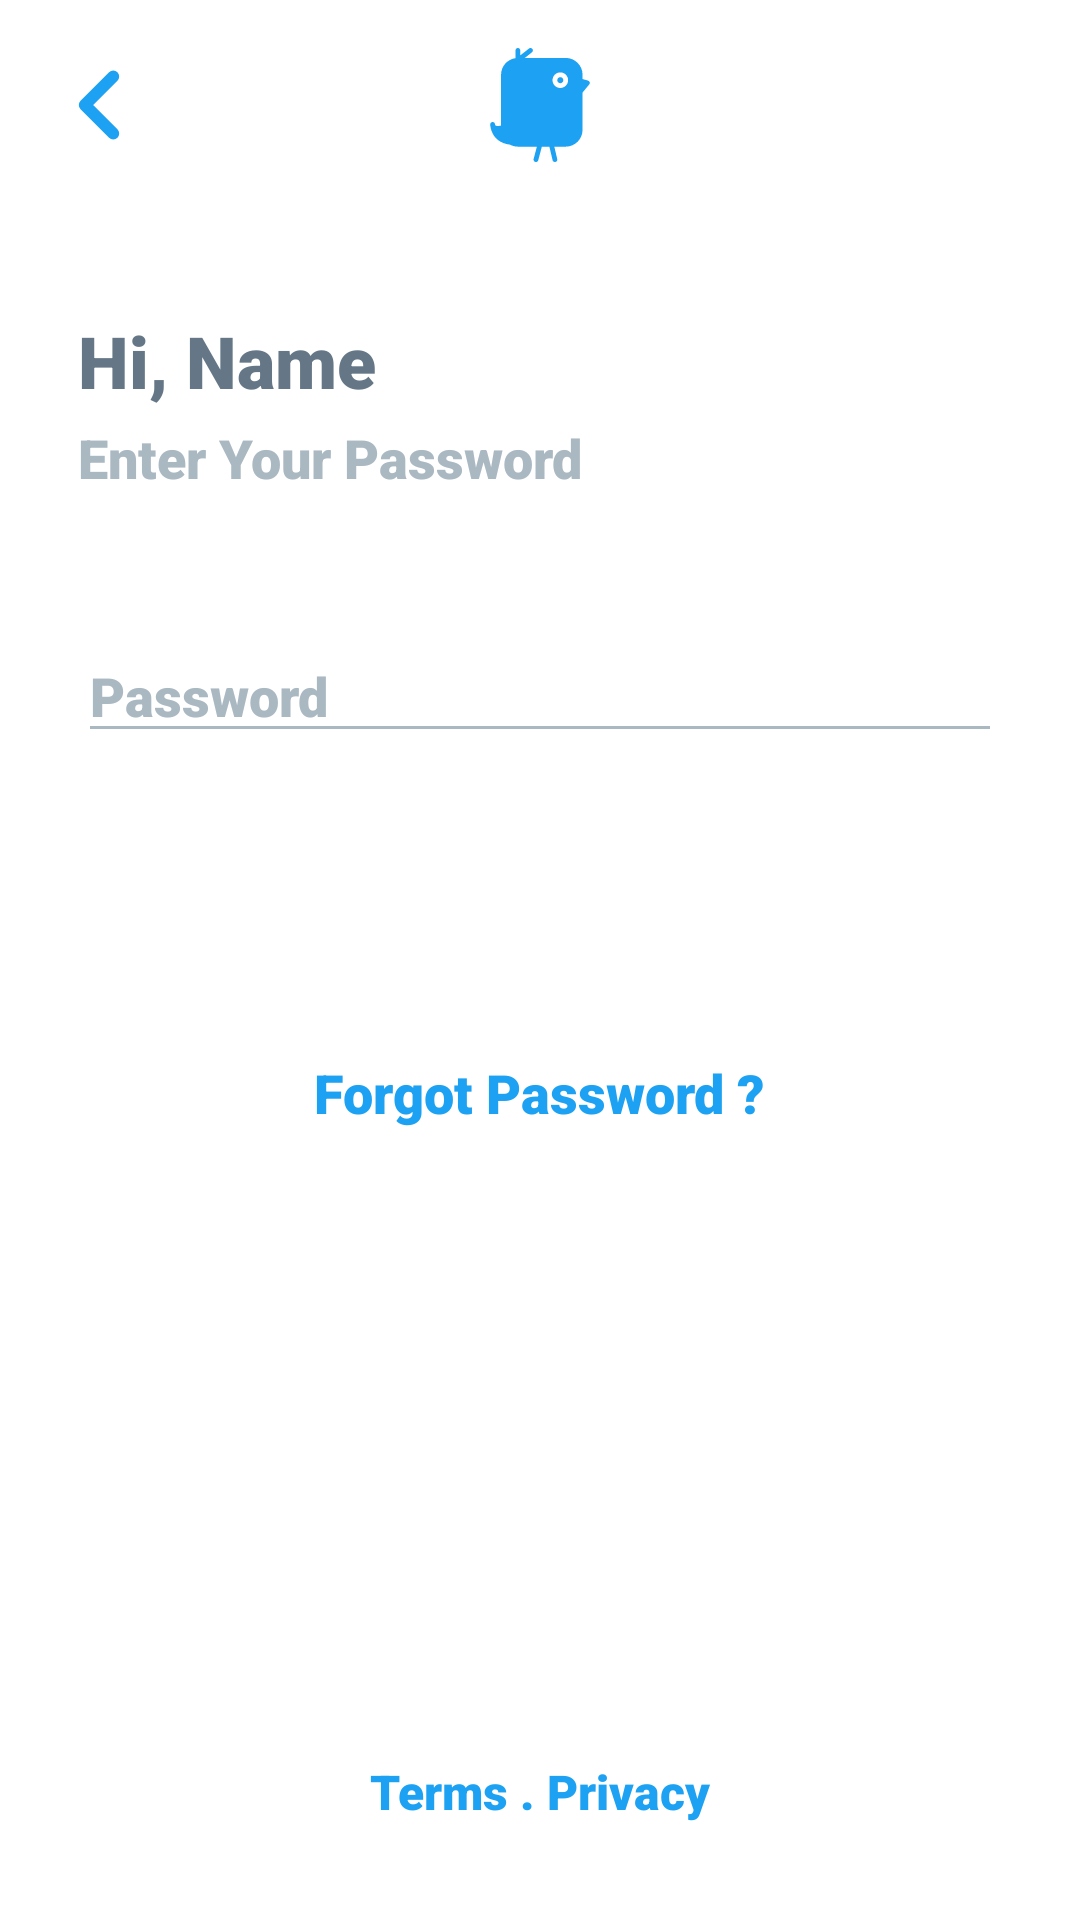

Screen size 1080x1920. Icon name, then its box in pixels as [x1=x1, y1=y1, x2=x2, y2=y2]:
back: [x1=79, y1=70, x2=120, y2=140]
